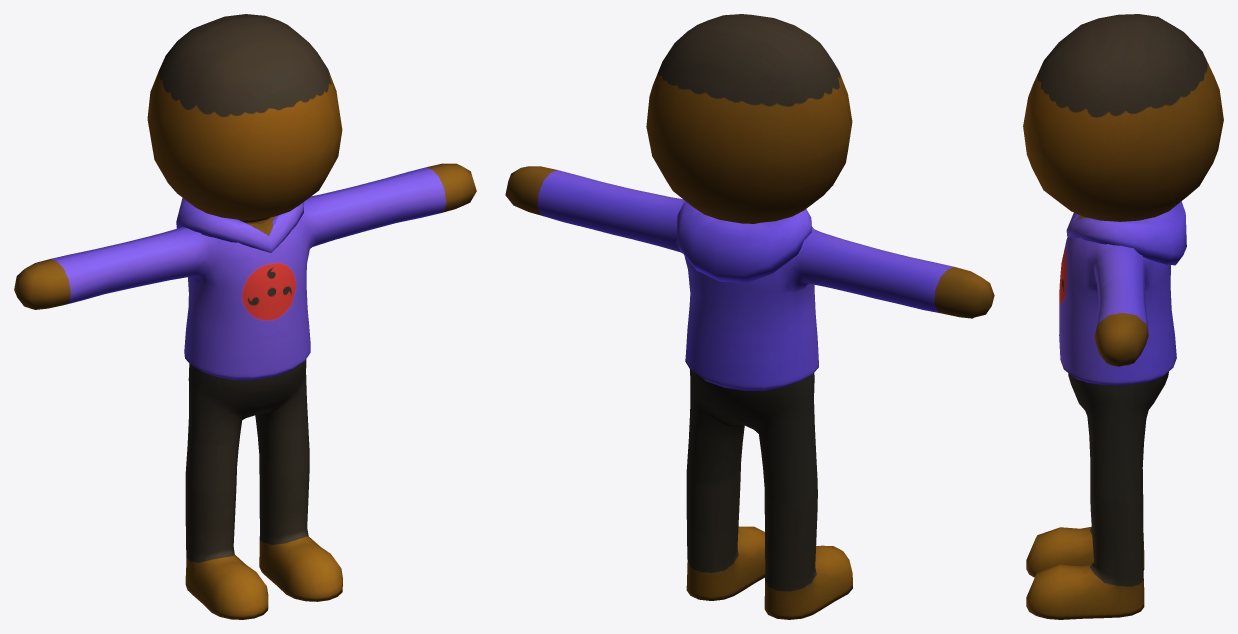
Rendered from Youtuber01.fbx.
3 views of the same model, side by side, from view 1: azimuth 30°, elevation 25°; view 2: azimuth 150°, elevation 25°; view 3: azimuth 270°, elevation 25° (orthographic). The views are drawn at different scales.
Parts seen in each view (by area): view 1: Youtuber01; view 2: Youtuber01; view 3: Youtuber01.
Boxes of the visible parts, x1,y1,x2,y2 form: Youtuber01: [14, 14, 476, 619]; Youtuber01: [505, 14, 994, 619]; Youtuber01: [1023, 14, 1223, 619].
Size of the model in its own units: 142 by 163 by 52.7.
